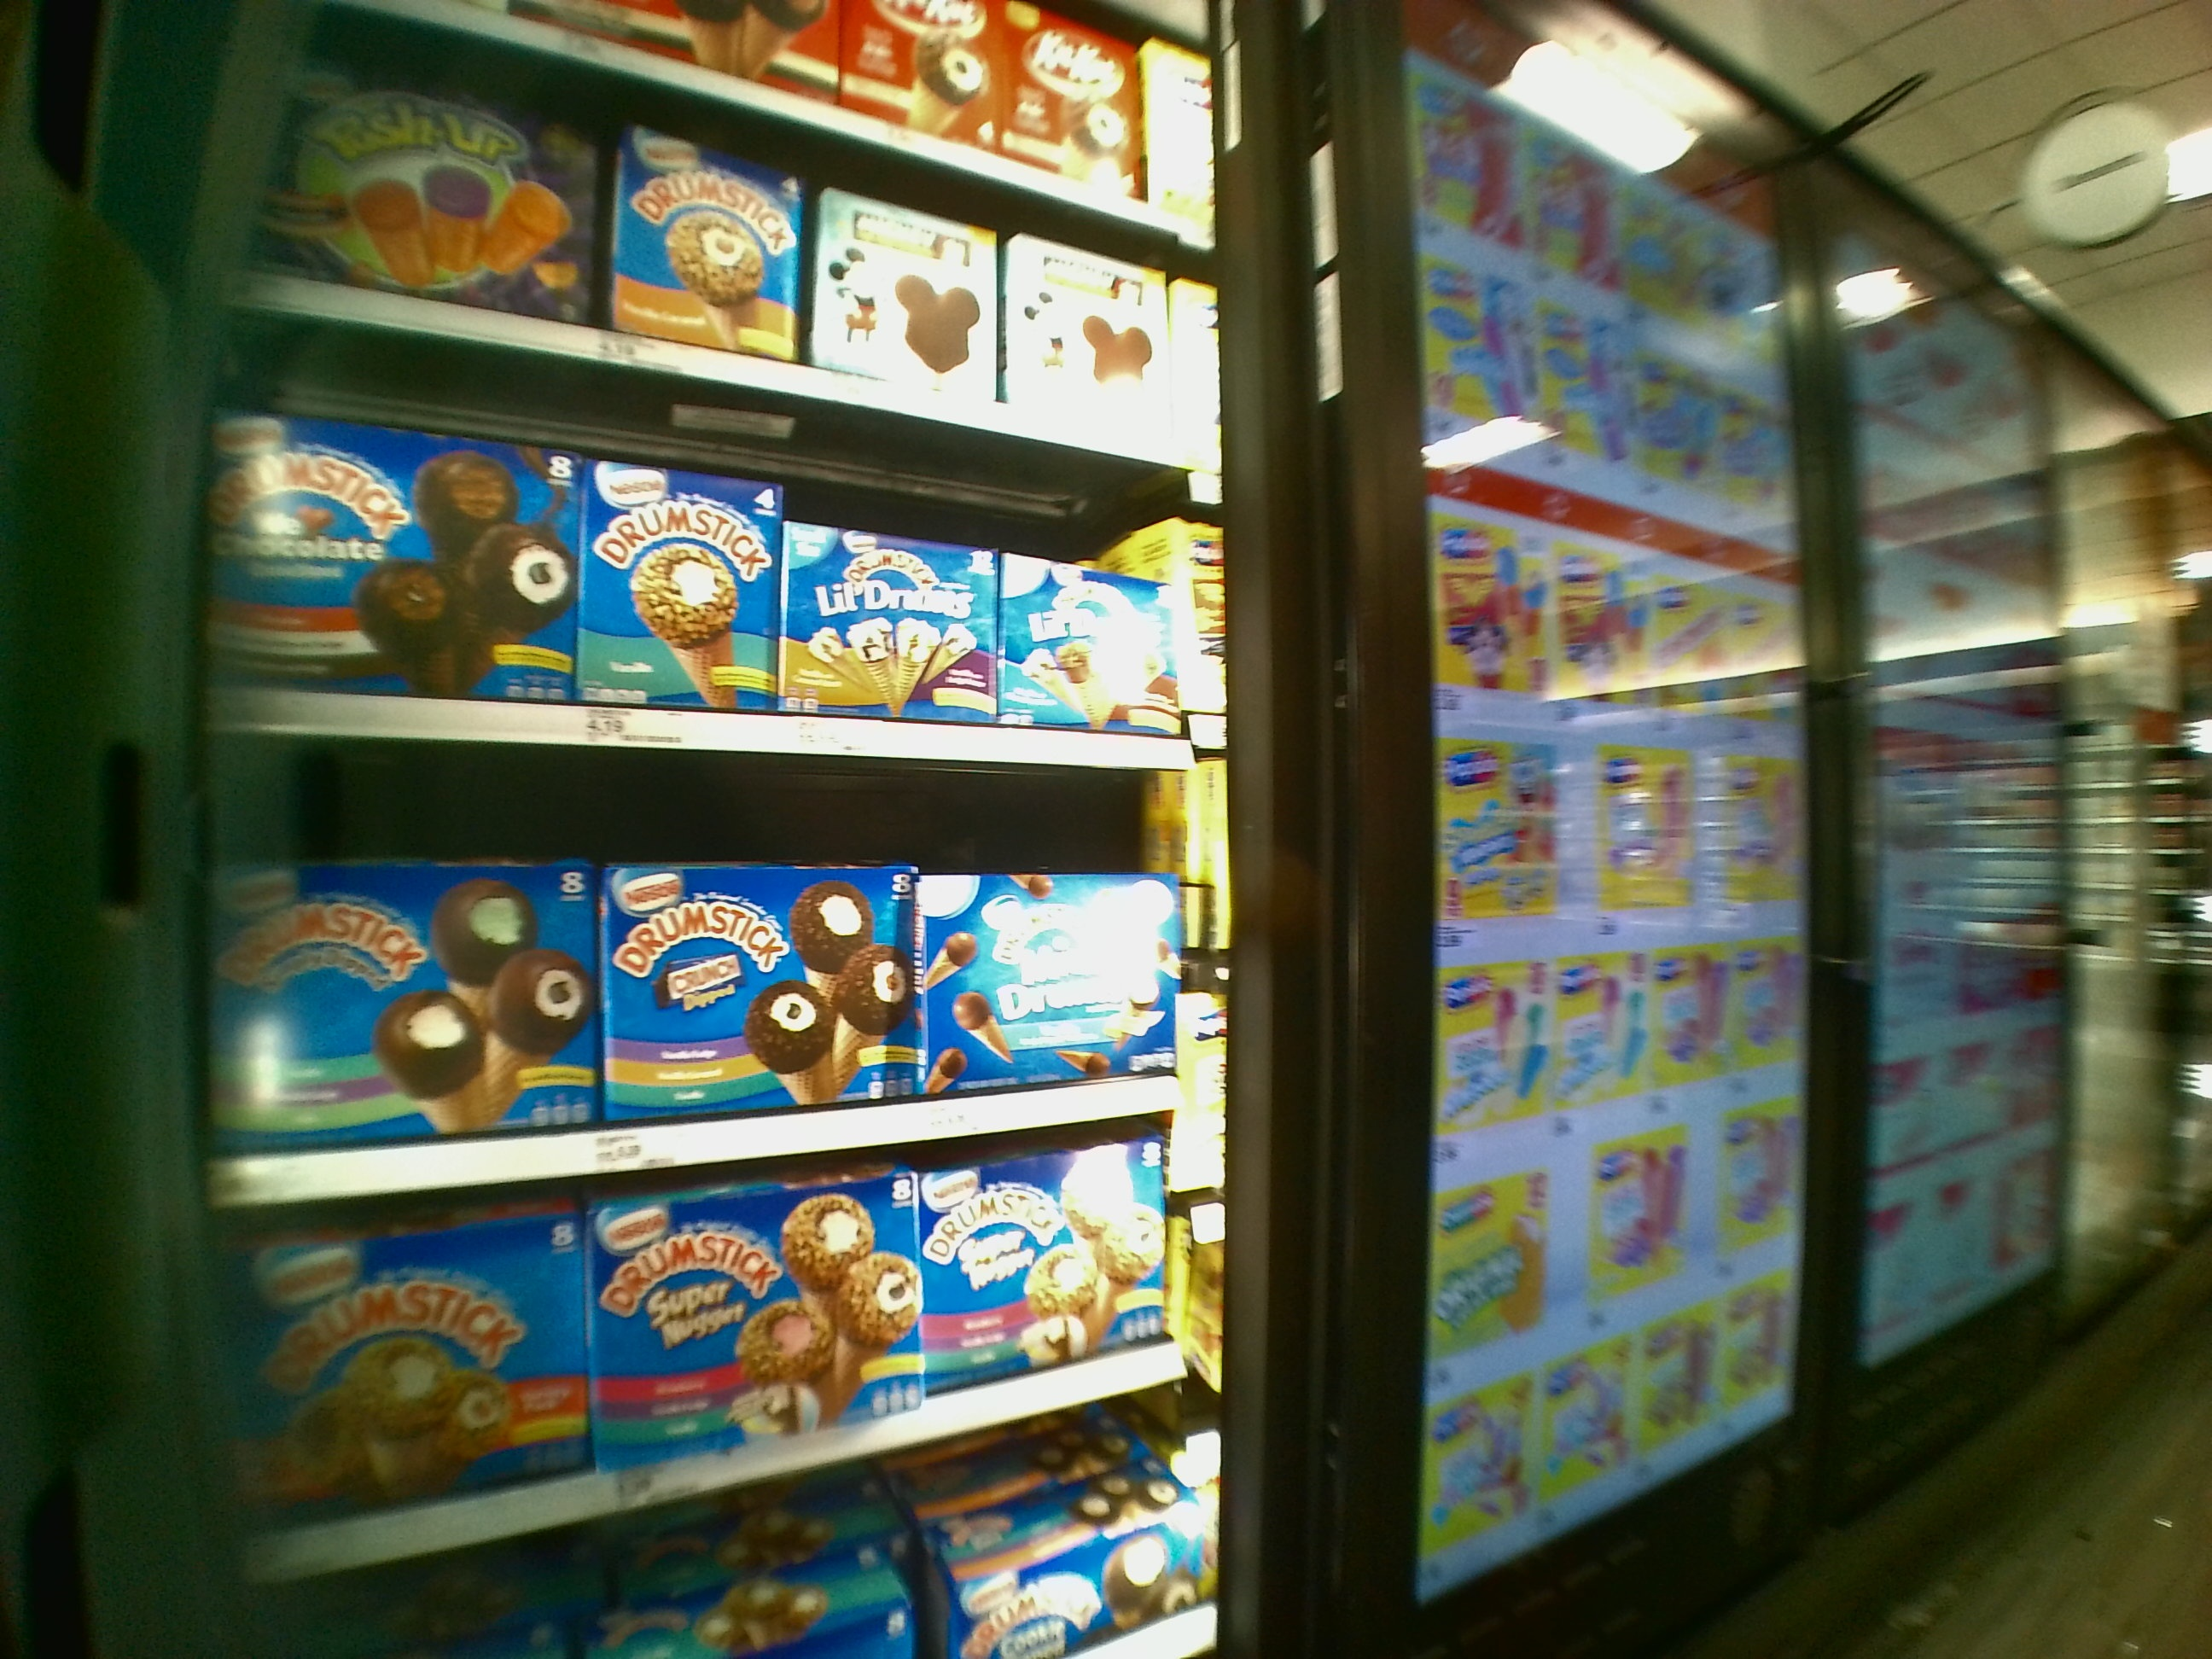shelf: (197, 762, 1191, 1152), (209, 1115, 1228, 1466), (207, 443, 1209, 758)
